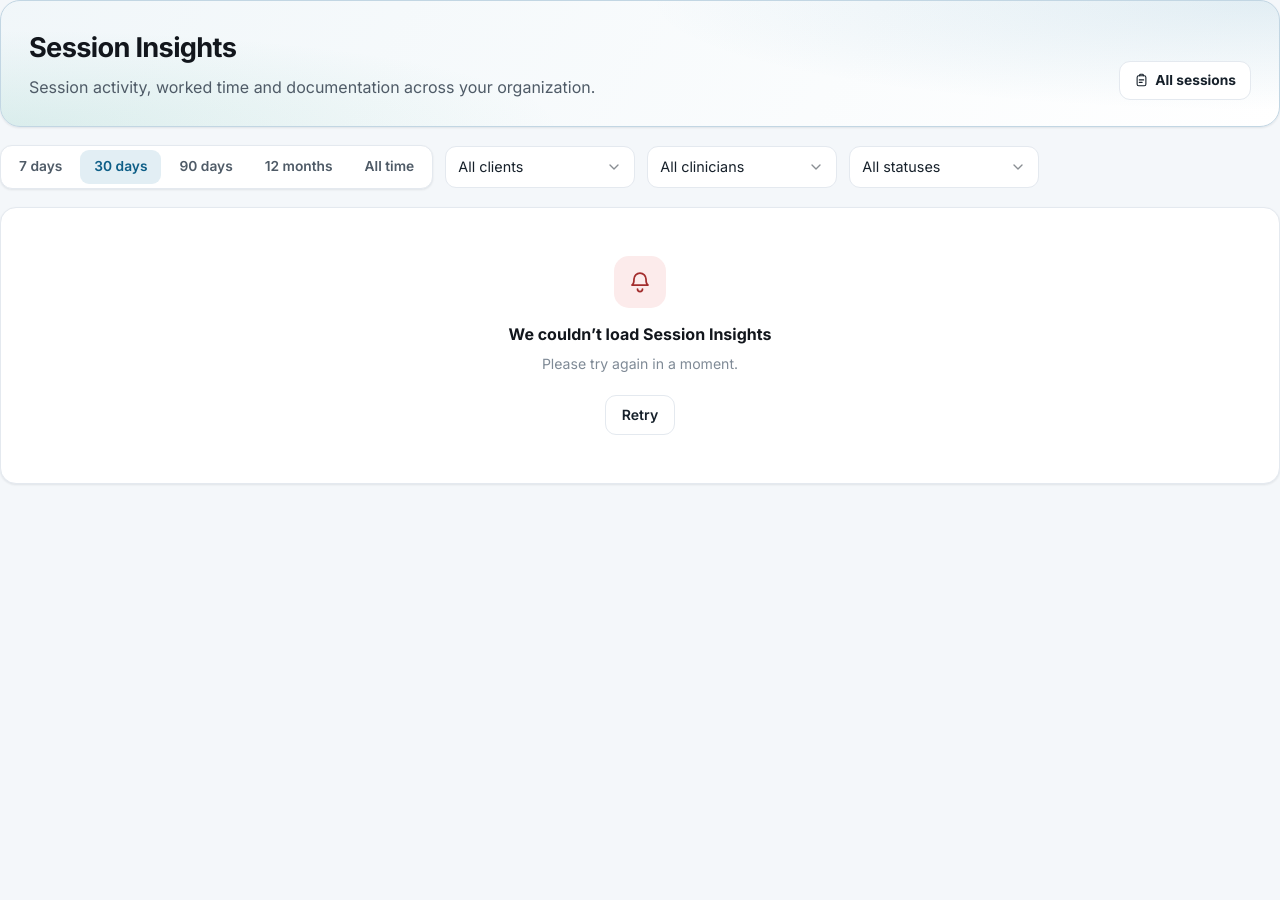
Test: AdminSessionOversightPage (Session Insights) › shows an error state with retry when insights fail
The width and height of the screenshot is (1280, 900).
Click the button "Retry" at (640, 415), box top-left (605, 395), bottom-right (675, 435)
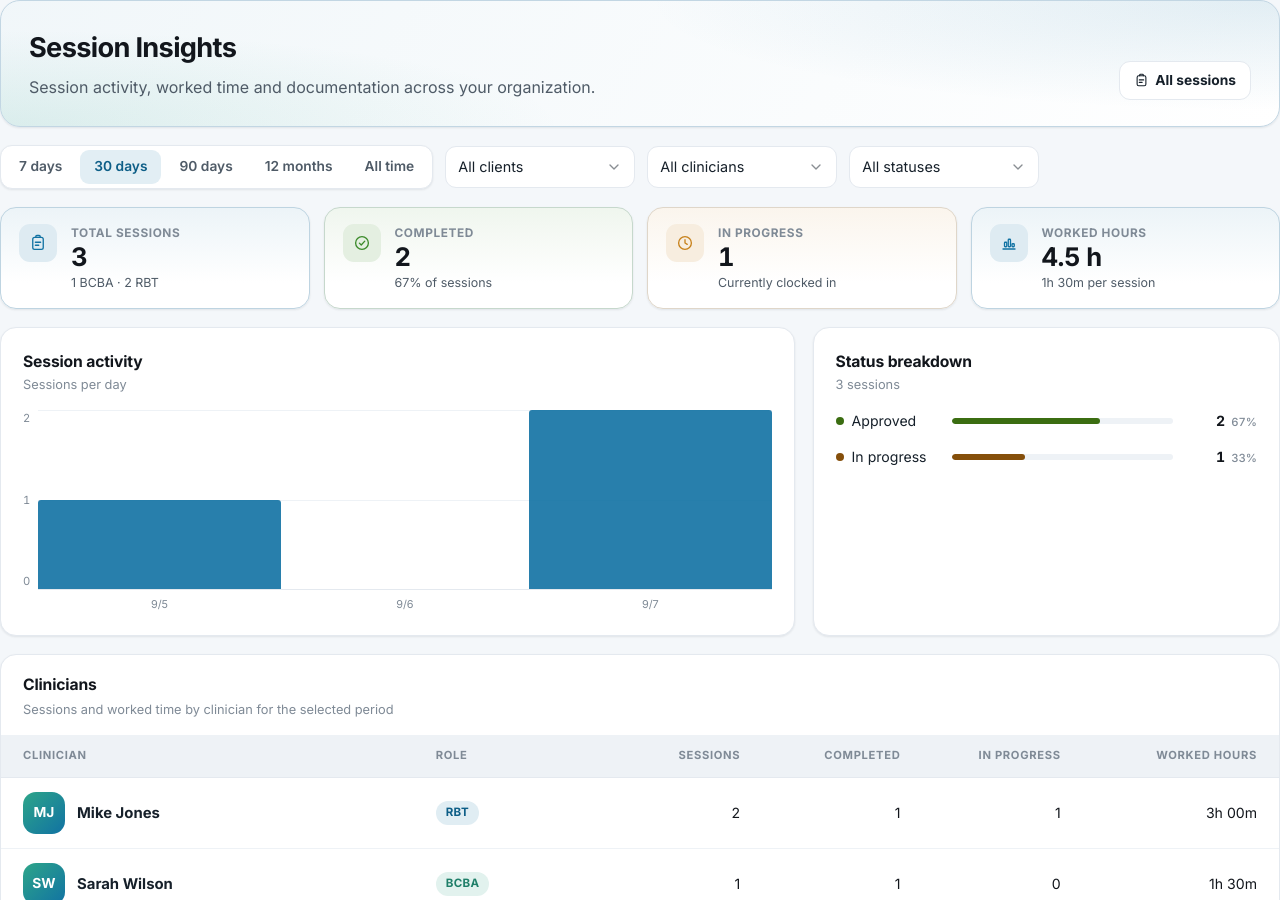
Check: the text "Total sessions" is shown, box top-left (71, 224), bottom-right (180, 242)
